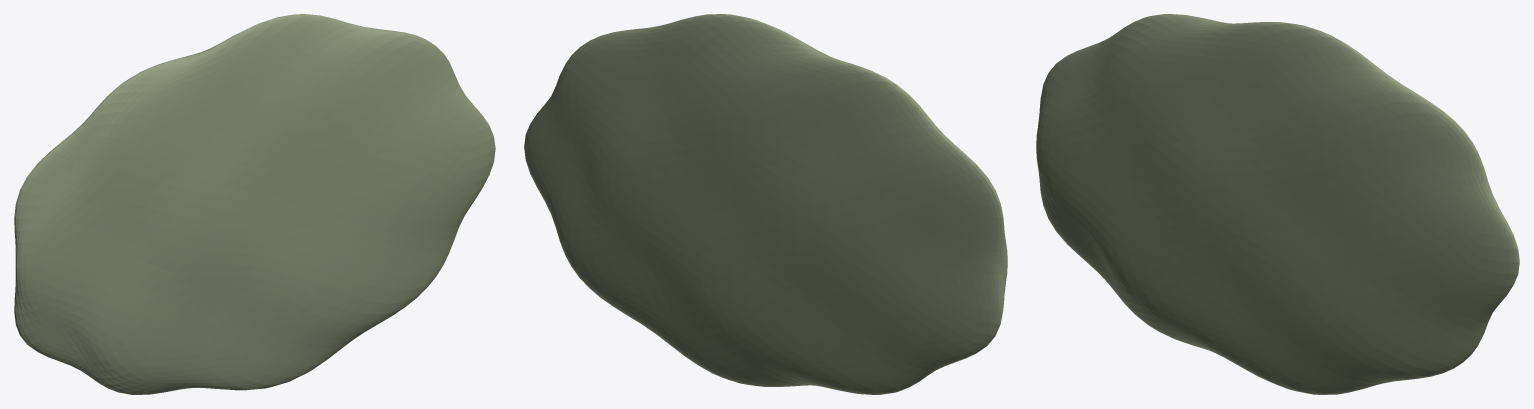
Rendered from Bana_Riverbank_Basin.glb.
3 views of the same model, side by side, from view 1: azimuth 30°, elevation 25°; view 2: azimuth 150°, elevation 25°; view 3: azimuth 330°, elevation 25° (orthographic).
Visible parts, largest first — view 1: world; view 2: world; view 3: world.
Part boxes in pixels (box(x1,y1,x2,y2)): world: box(14, 14, 495, 394); world: box(524, 14, 1007, 394); world: box(1036, 14, 1519, 394).
Size of the model in its own units: 14.15 by 10.32 by 1.14.
